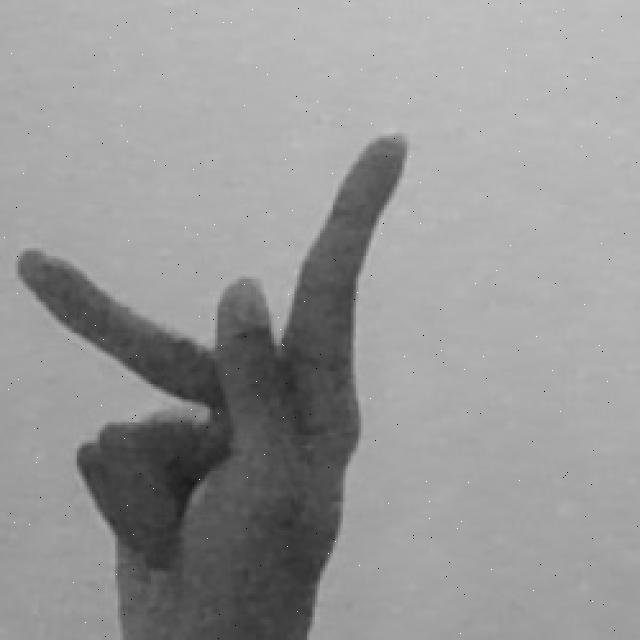K: (13, 128, 417, 640)
